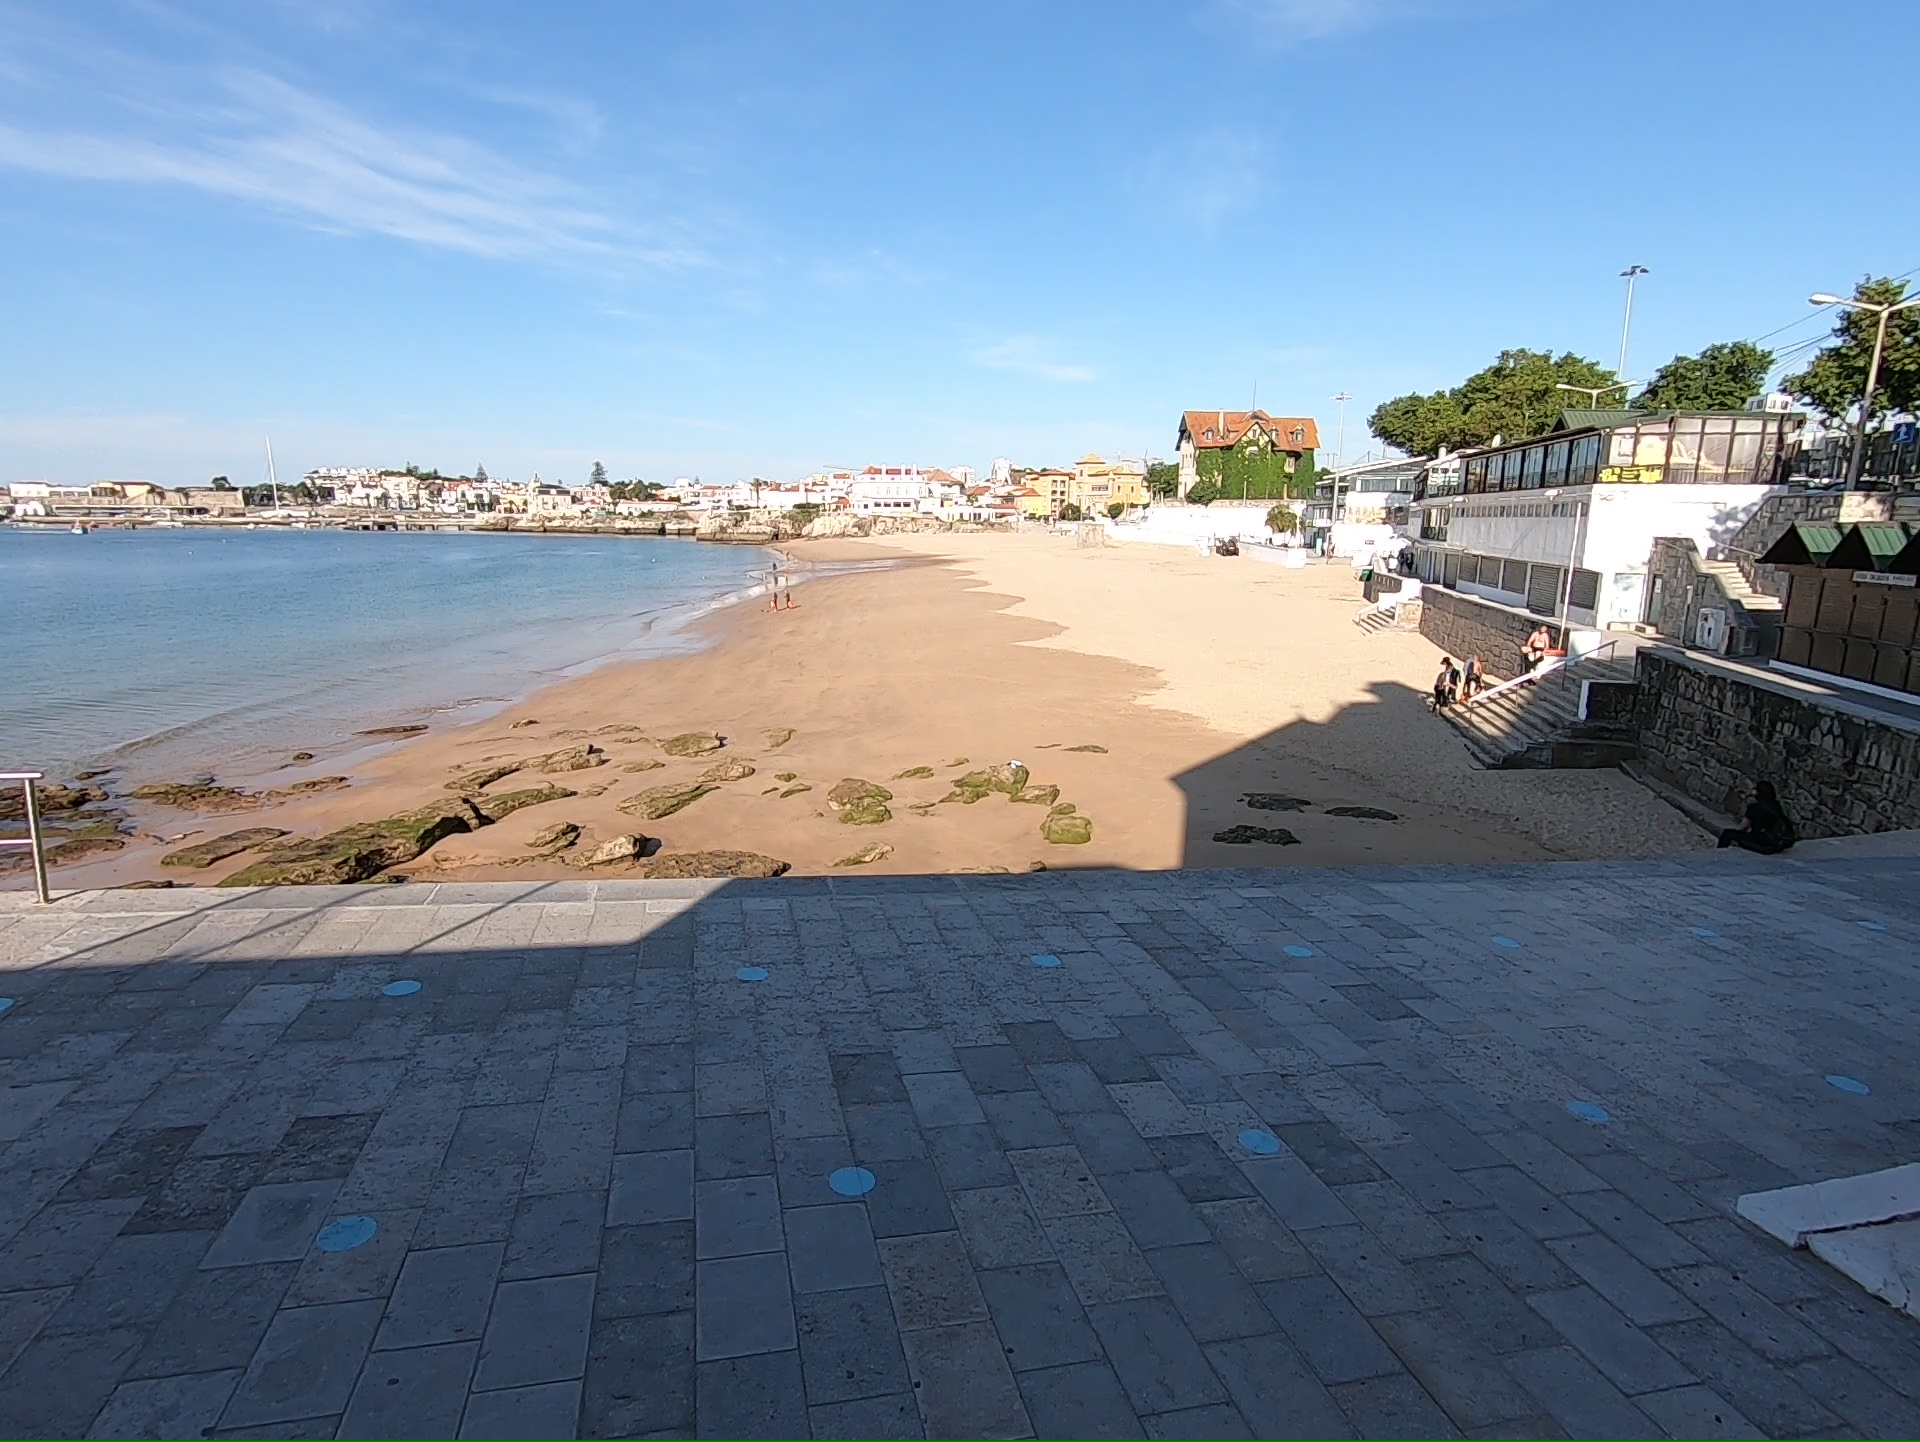person: (1714, 778, 1795, 856), (1522, 624, 1549, 665), (1434, 666, 1454, 707), (1463, 654, 1483, 693), (782, 588, 792, 610), (769, 588, 779, 614), (785, 550, 790, 561), (774, 573, 778, 583), (772, 560, 775, 569), (785, 575, 788, 584)
